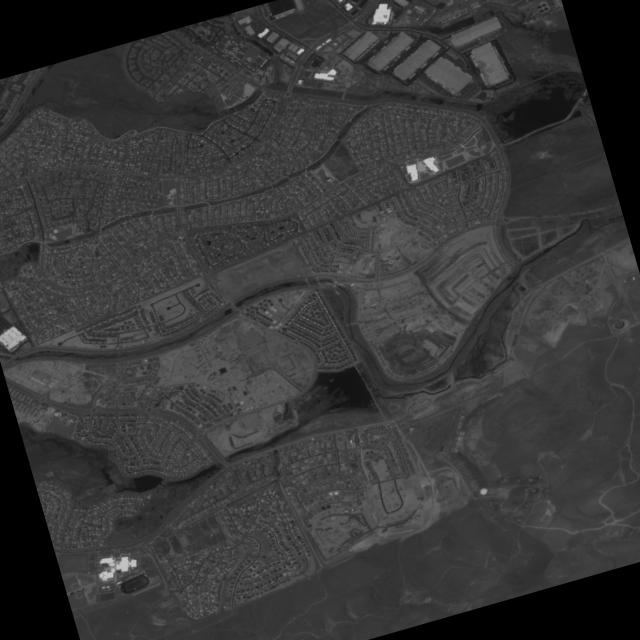storage-tank: (478, 487, 487, 496)
